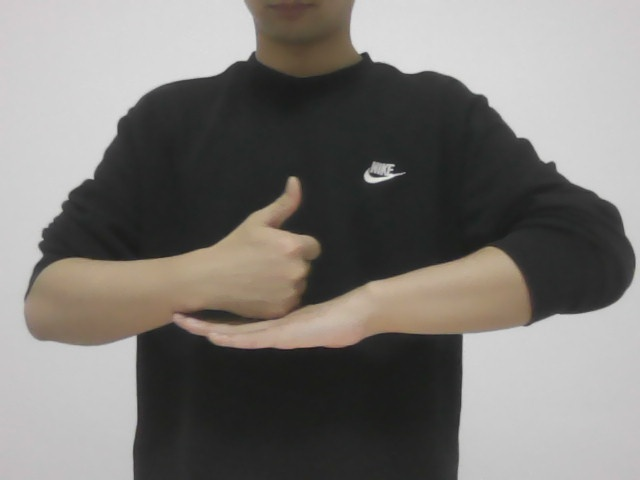new: (170, 173, 370, 359)
